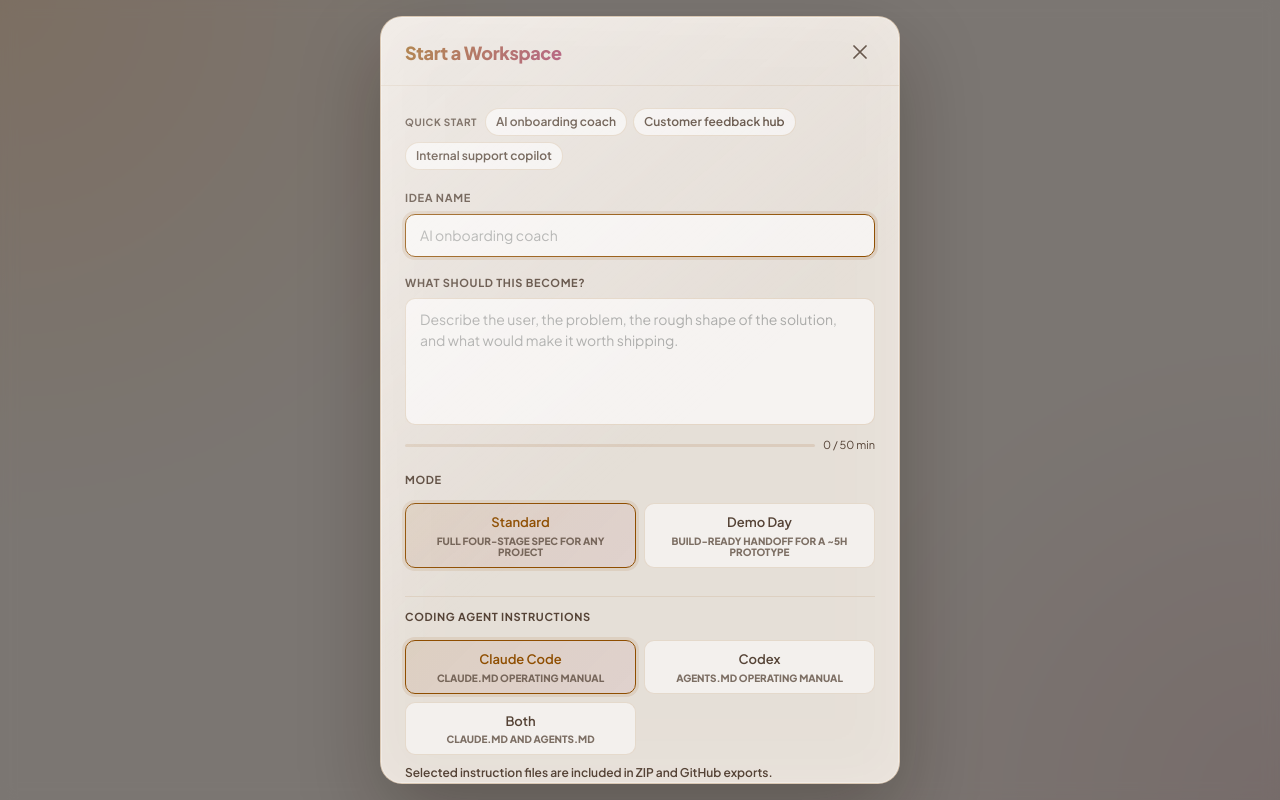
Test: CreateWorkspaceModal — Demo Day mode › reveals the target-agent picker and handoff preview when Demo Day is chosen
This screenshot has width=1280, height=800.
Click the button "Demo Day Build-ready handoff for a ~5h prototype" at x=760, y=535, box left=644, top=503, right=875, bottom=568
(page scrolled)
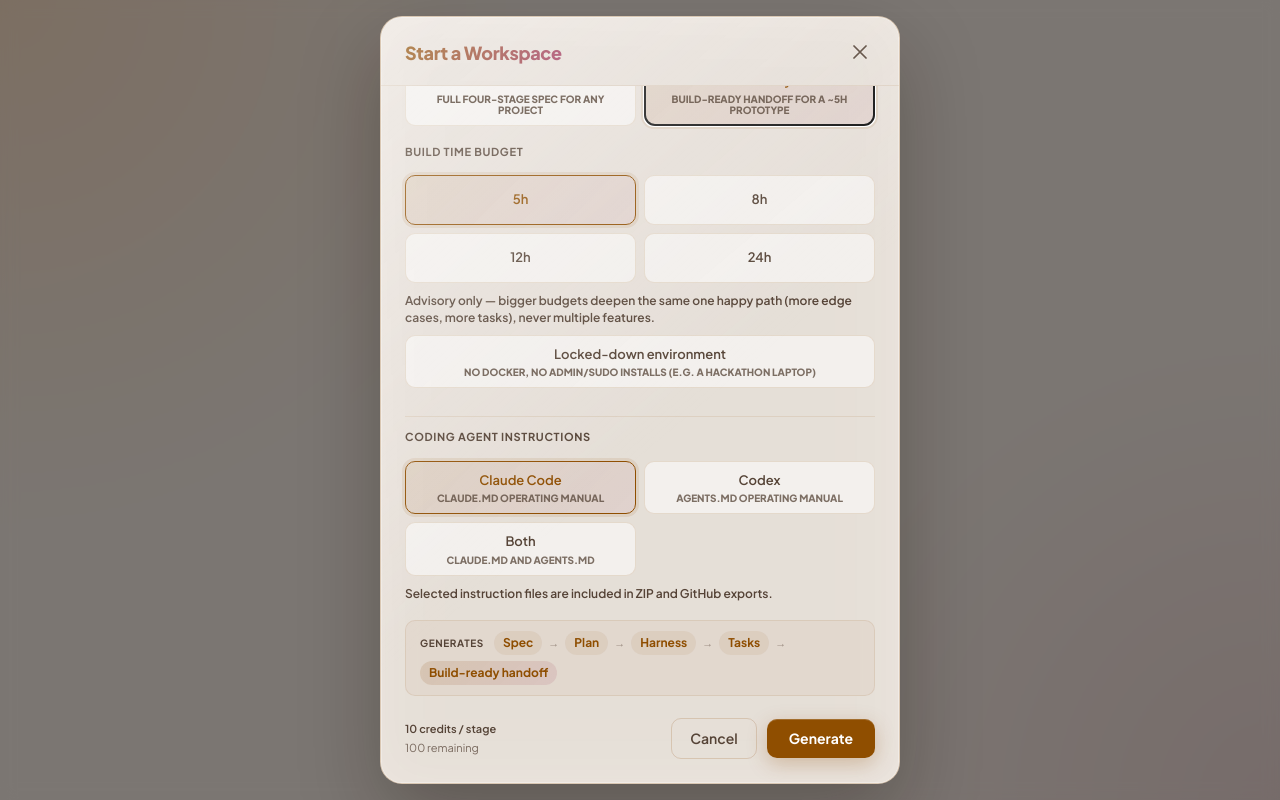
expect the text "Coding agent instructions" is shown: met, box left=405, top=430, right=591, bottom=443
expect the text "Build-ready handoff" is shown: met, box left=420, top=661, right=557, bottom=685
